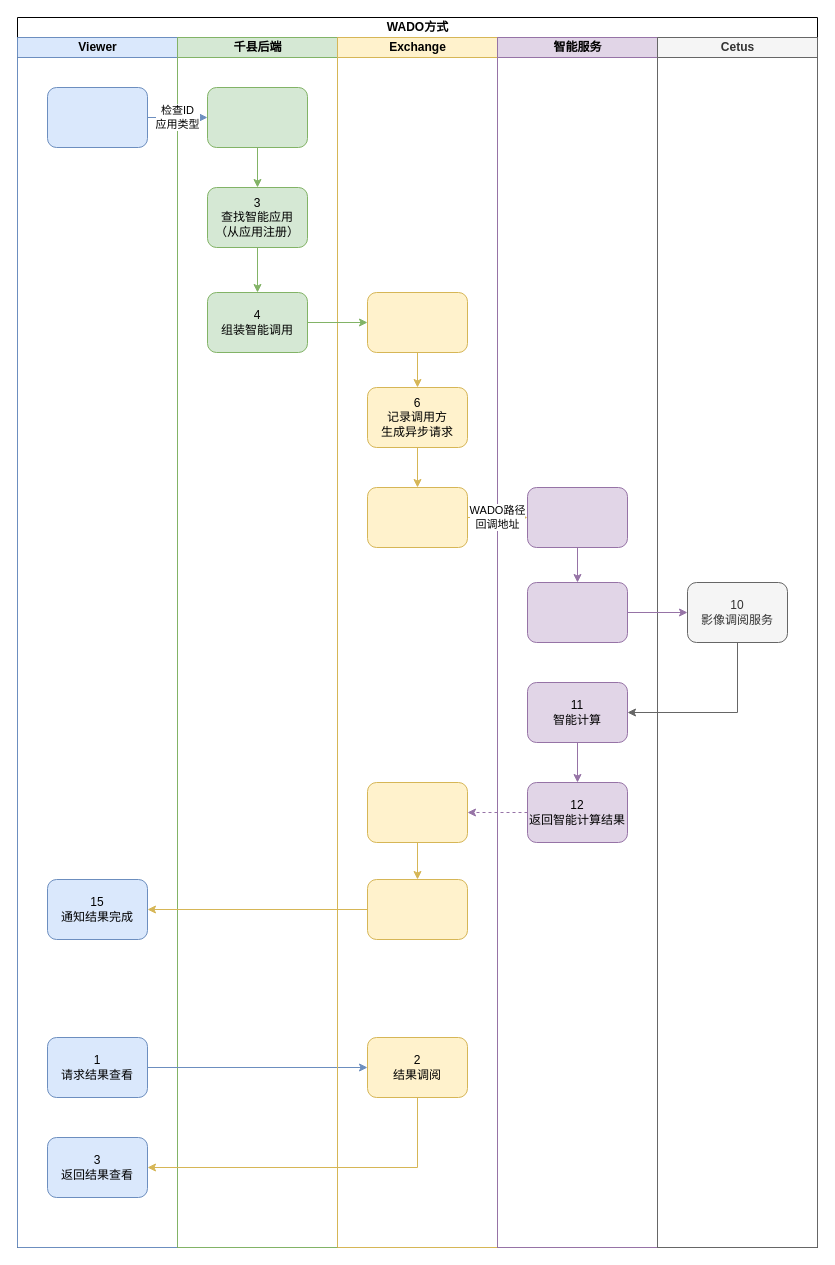
Image size: 835x1265. Some labels were removed from this diagram. The box of each missing label's shape, as (x1, y1, x2, y2) in pixels:
1 发起智能请求: (46, 86, 148, 148)
13 保存智能计算结果: (366, 782, 468, 842)
14 查找并通知调用方: (366, 878, 468, 940)
2 接收智能请求: (206, 86, 308, 148)
5 接收智能调用: (366, 292, 468, 352)
7 组装智能调用: (366, 486, 468, 548)
8 接收智能调用: (526, 486, 628, 548)
9 准备影像: (526, 582, 628, 642)
